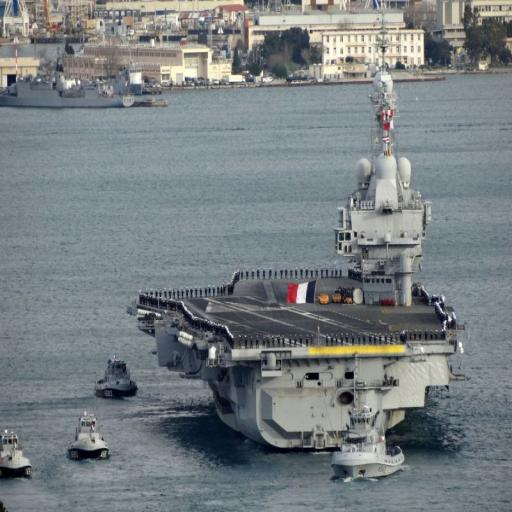Portanaves: (130, 28, 467, 454)
